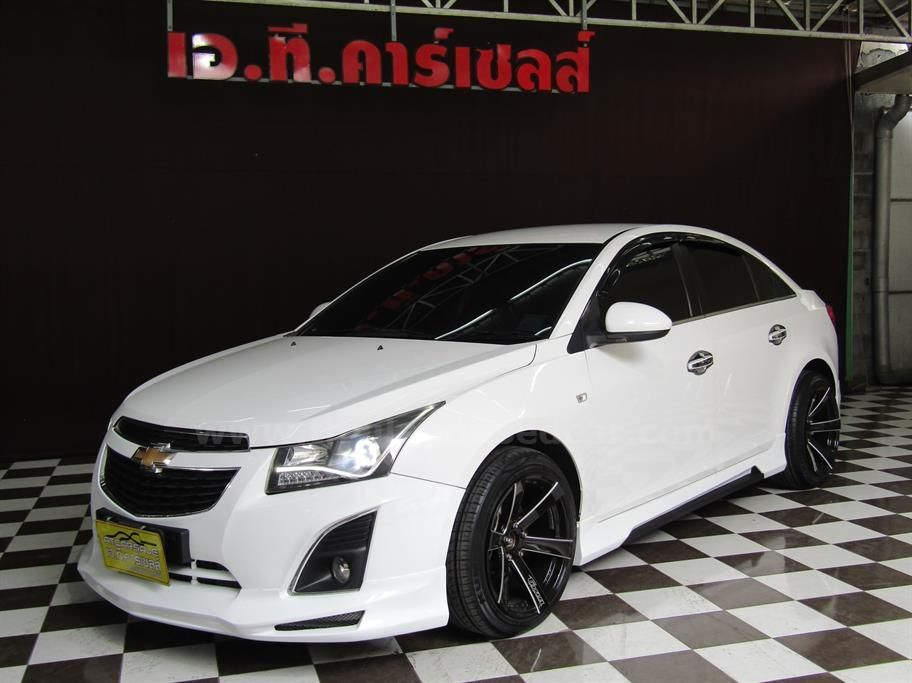sedan: (73, 222, 847, 643)
